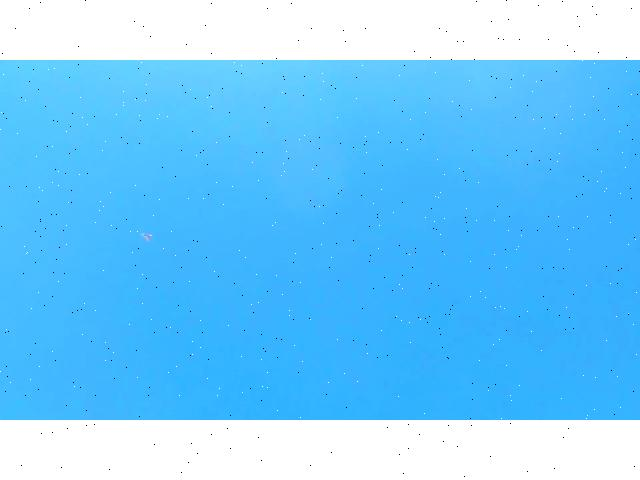Anti-Drone: (126, 225, 162, 253)
